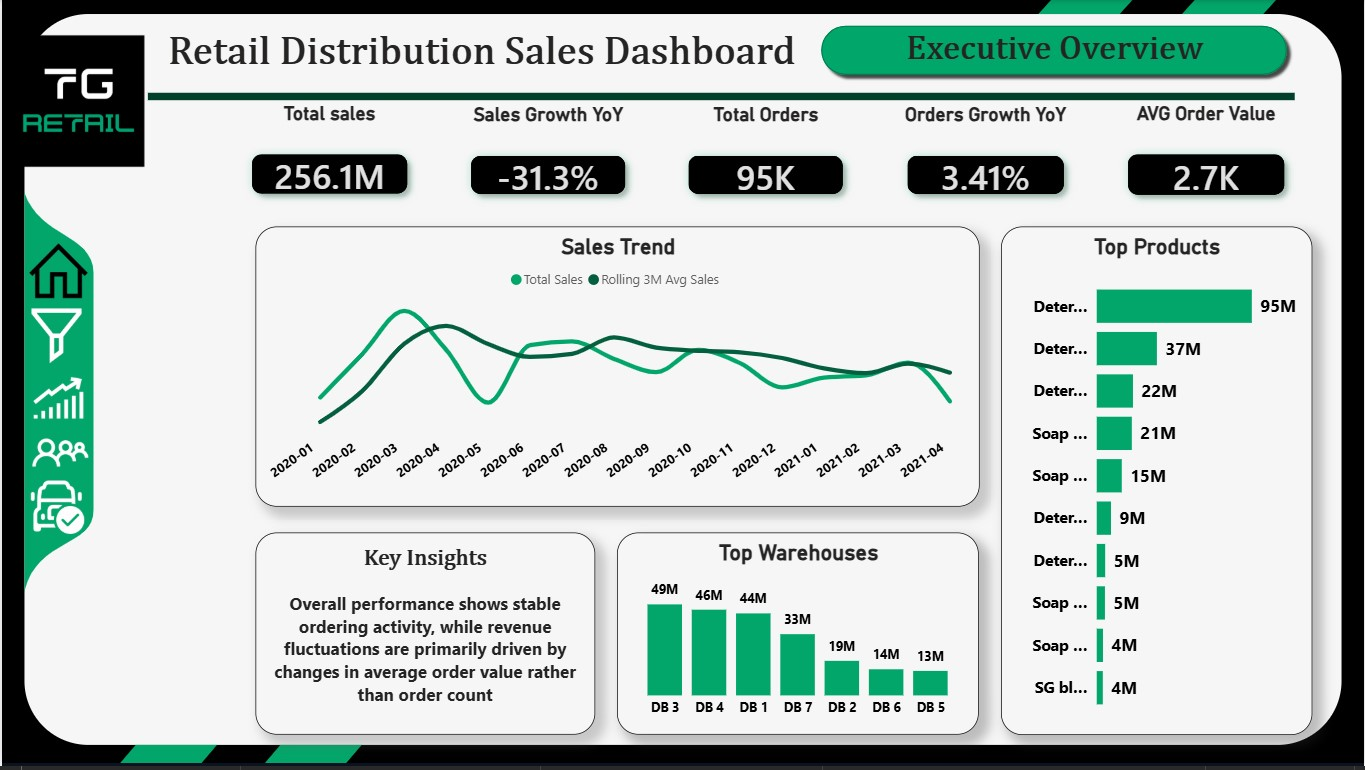

The dashboard page shown, as its layout file describes it:
{"tool":"powerbi","page":{"name":"Executive Overview","canvas":[1280,720],"ordinal":0},"visuals":[{"type":"shape","title":"filter panel","box":[94.2,159.8,131,530.4],"z":0,"group":"g1"},{"type":"cardVisual","title":"Orders Growth YoY","fields":{"Data":["key_Measures.Orders YoY %"]},"box":[821.9,97.1,205.4,114.8],"z":0},{"type":"image","title":"logo","box":[0,0,143.8,190.1],"z":1000},{"type":"image","title":"close","box":[183.7,172.6,41.5,39.9],"z":1000,"group":"g1"},{"type":"image","title":"reset filters","box":[86.6,173.4,52,38.5],"z":2000,"group":"g1"},{"type":"textbox","box":[150.2,22.4,611.9,55.9],"z":2000},{"type":"shape","box":[762.1,17.6,452.1,60.7],"z":3000},{"type":"slicer","title":"year slicer","fields":{"Values":["Calendar.Year"]},"box":[88.6,223.4,136.7,80.9],"z":3000,"group":"g1"},{"type":"textbox","box":[806.8,22.4,365.9,55.9],"z":4000},{"type":"slicer","title":"warehouse name slicer","fields":{"Values":["warehouse.Warehouse Name"]},"box":[84.7,319.7,140.6,109.8],"z":4000,"group":"g1"},{"type":"slicer","title":"product name slicer","fields":{"Values":["sales.Product Name"]},"box":[86.6,444.9,138.7,109.8],"z":5000,"group":"g1"},{"type":"clusteredColumnChart","title":"Top Warehouses","fields":{"Category":["warehouse.Warehouse Name"],"Y":["key_Measures.Total Sales"]},"box":[578.4,500.1,340.3,190.1],"z":5000},{"type":"cardVisual","title":"AVG Order Value","fields":{"Data":["key_Measures.Avg Order Value"]},"box":[1028.8,95.4,205.4,116.5],"z":6000},{"type":"slicer","title":"outlet name slicer","fields":{"Values":["outlets.Outlet Name"]},"box":[84.7,554.7,140.6,115.5],"z":6000,"group":"g1"},{"type":"cardVisual","title":"Total Orders","fields":{"Data":["key_Measures.Count of Orders"]},"box":[616.8,97.1,203.8,114.8],"z":7000},{"type":"cardVisual","title":"Sales Growth YoY","fields":{"Data":["key_Measures.YOY Growth %"]},"box":[411.6,97.1,203.8,114.8],"z":8000},{"type":"cardVisual","title":"Total sales","fields":{"Data":["key_Measures.Total Sales"]},"box":[206.1,96.3,204.1,115.5],"z":9000},{"type":"lineChart","title":"Sales Trend","fields":{"Category":["Calendar.Year-Month"],"Y":["key_Measures.Total Sales"],"Y2":["key_Measures.Rolling 3M Avg Sales"]},"box":[238.1,212.5,680.6,263.6],"z":10000},{"type":"clusteredBarChart","title":"Top Products","fields":{"Category":["sales.Product Name"],"Y":["key_Measures.Total Sales"]},"box":[939.4,212.5,292.4,477.7],"z":11000},{"type":"image","title":"sales","box":[20.8,346.7,63.9,57.5],"z":12000},{"type":"image","title":"customers","box":[20.8,399.4,67.1,52.7],"z":14000},{"type":"image","title":"supply","box":[6.4,447.3,87.9,57.5],"z":15000},{"type":"group","id":"g1","title":"filters panel","box":[84.7,159.8,140.6,530.4],"z":17000},{"type":"image","title":"Home Active","box":[21.4,212.8,64.3,85.8],"z":18000},{"type":"image","title":"Filter Active","box":[18.1,280.4,67.6,70.9],"z":19000},{"type":"textbox","box":[238.1,500.1,319.5,190.1],"z":23000}]}

Visuals, with their boxes in screenshot pixels (x1, y1, x2, y2), scaled from the page's 1280x720 canvas onto the 1365x770 screenshot:
"filter panel" shape: <region>100, 171, 240, 738</region>
"Orders Growth YoY" cardVisual: <region>876, 104, 1096, 227</region>
"logo" image: <region>0, 0, 153, 203</region>
"close" image: <region>196, 185, 240, 227</region>
"reset filters" image: <region>92, 185, 148, 227</region>
textbox: <region>160, 24, 813, 84</region>
shape: <region>813, 19, 1295, 84</region>
"year slicer" slicer: <region>94, 239, 240, 325</region>
textbox: <region>860, 24, 1251, 84</region>
"warehouse name slicer" slicer: <region>90, 342, 240, 459</region>
"product name slicer" slicer: <region>92, 476, 240, 593</region>
"Top Warehouses" clusteredColumnChart: <region>617, 535, 980, 738</region>
"AVG Order Value" cardVisual: <region>1097, 102, 1316, 227</region>
"outlet name slicer" slicer: <region>90, 593, 240, 717</region>
"Total Orders" cardVisual: <region>658, 104, 875, 227</region>
"Sales Growth YoY" cardVisual: <region>439, 104, 656, 227</region>
"Total sales" cardVisual: <region>220, 103, 437, 227</region>
"Sales Trend" lineChart: <region>254, 227, 980, 509</region>
"Top Products" clusteredBarChart: <region>1002, 227, 1314, 738</region>
"sales" image: <region>22, 371, 90, 432</region>
"customers" image: <region>22, 427, 94, 483</region>
"supply" image: <region>7, 478, 101, 540</region>
"filters panel" group: <region>90, 171, 240, 738</region>
"Home Active" image: <region>23, 228, 91, 319</region>
"Filter Active" image: <region>19, 300, 91, 376</region>
textbox: <region>254, 535, 595, 738</region>
